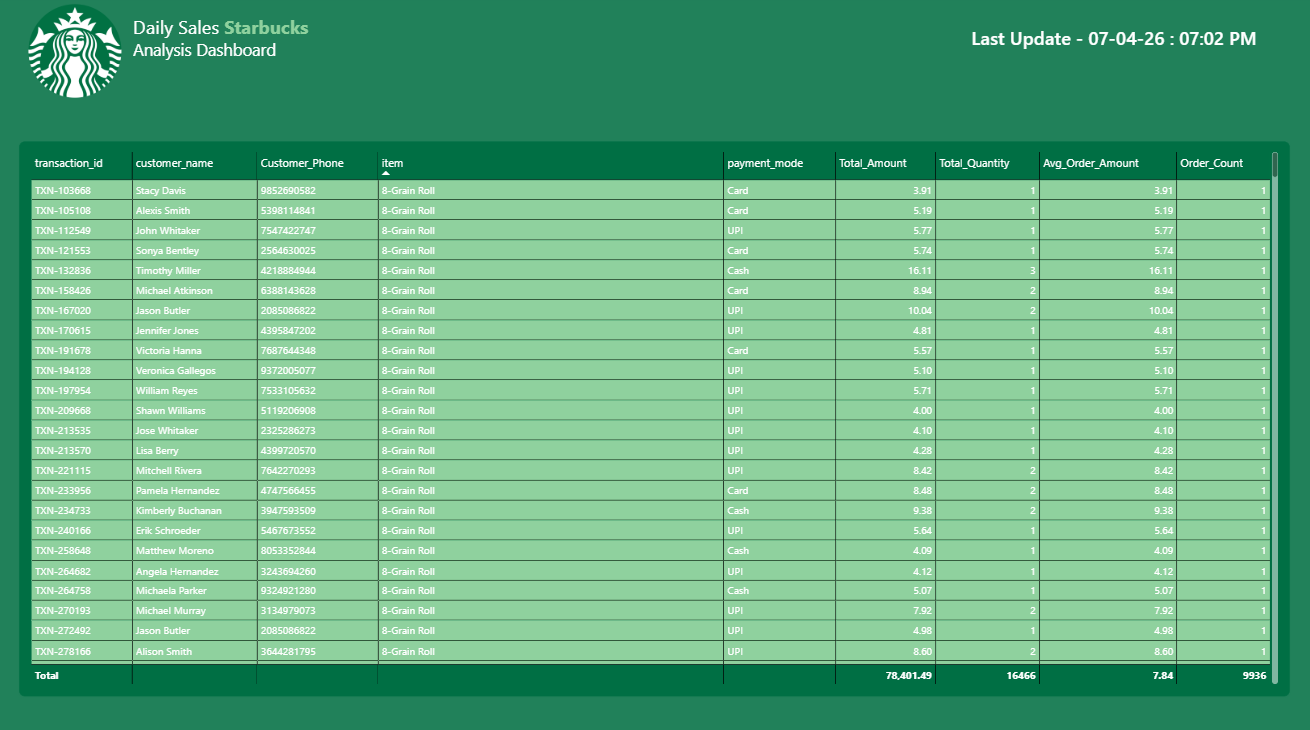

The dashboard page shown, as its layout file describes it:
{"tool":"powerbi","page":{"name":"Details","canvas":[1920,1080],"ordinal":2},"visuals":[{"type":"image","box":[39.8,7.2,157.4,150.2],"z":0},{"type":"textbox","box":[202.7,29,291.4,115.8],"z":1000},{"type":"cardVisual","fields":{"Data":["_Measure.Format_Max_Date"]},"box":[1400.2,28.1,478.3,69.3],"z":2000},{"type":"tableEx","fields":{"Values":["sales.transaction_id","customers.customer_name","customers.Customer_Phone","items.item","sales.payment_mode","_Measure.Total_Amount","_Measure.Total_Quantity","_Measure.Avg_Order_Amount","_Measure.Order_Count"]},"box":[38,213.5,1839.5,802.9],"z":3000}]}

Visuals, with their boxes in screenshot pixels (x1, y1, x2, y2), scaled from the page's 1920x1080 canvas onto the 1310x730 screenshot:
image: [27,5,135,106]
textbox: [138,20,337,98]
cardVisual - _Measure.Format_Max_Date: [955,19,1282,66]
tableEx - sales.transaction_id x customers.customer_name: [26,144,1281,687]
